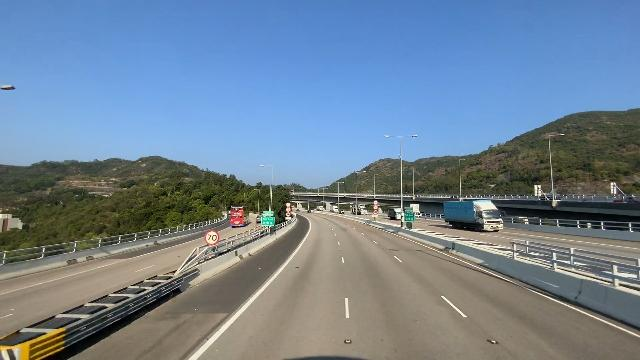bus: (228, 204, 252, 227)
truck: (444, 197, 504, 234), (386, 207, 405, 221), (350, 204, 368, 216)
van: (338, 209, 345, 214)
